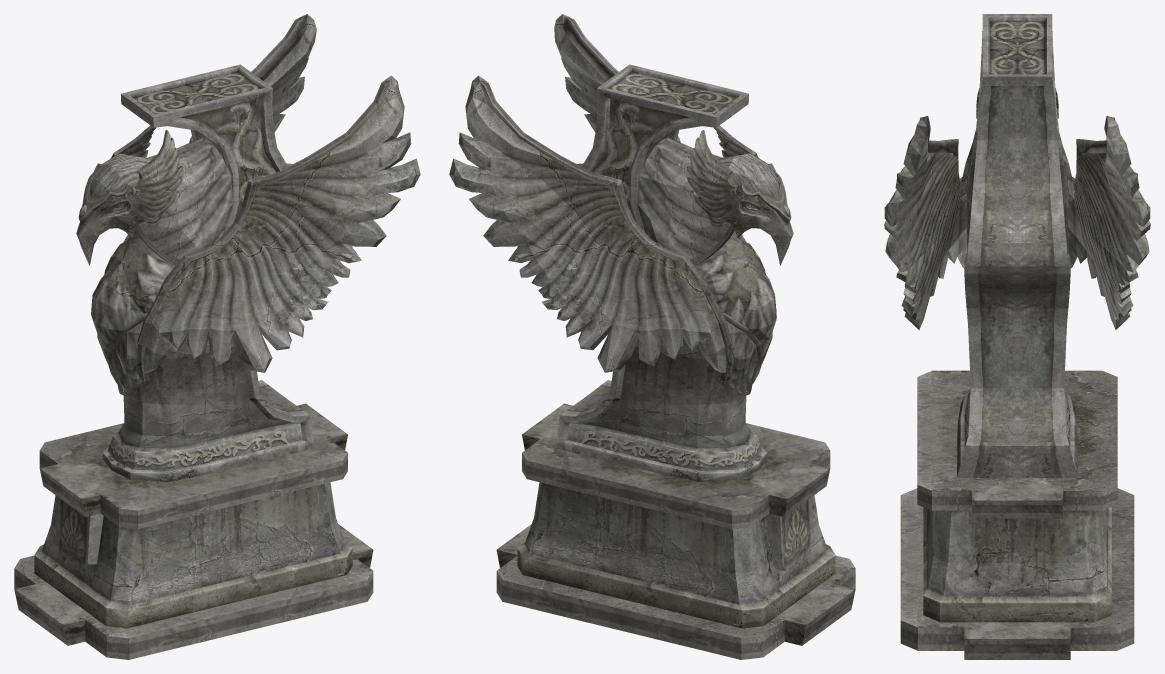
Rendered from bg_lut_lucastle_squarestatue02_sm_bjh.FBX.
3 renders of one model, left to right at view 1: azimuth 30°, elevation 25°; view 2: azimuth 150°, elevation 25°; view 3: azimuth 270°, elevation 25°, orthographic. The views are drawn at different scales.
Parts seen in each view (by area): view 1: bg_lut_lucastle_squarestatue02_sm_bjh; view 2: bg_lut_lucastle_squarestatue02_sm_bjh; view 3: bg_lut_lucastle_squarestatue02_sm_bjh.
Part boxes in pixels (x1=…): bg_lut_lucastle_squarestatue02_sm_bjh: x1=14, y1=14, x2=420, y2=659; bg_lut_lucastle_squarestatue02_sm_bjh: x1=449, y1=14, x2=855, y2=659; bg_lut_lucastle_squarestatue02_sm_bjh: x1=884, y1=14, x2=1150, y2=659.
Size of the model in its own units: 236 by 355 by 157.
